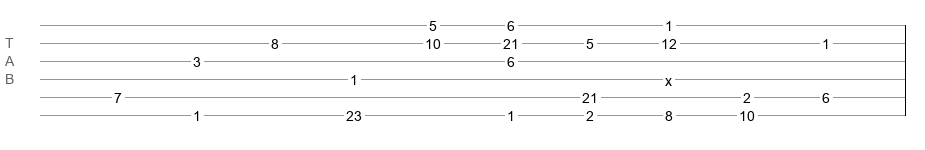1: (193, 108, 201, 118), (350, 72, 358, 82), (507, 108, 515, 118), (665, 18, 673, 28), (822, 36, 830, 46)
10: (425, 36, 441, 46), (739, 108, 755, 118)
12: (661, 36, 677, 46)
2: (586, 108, 594, 118), (743, 90, 751, 100)
21: (503, 36, 519, 46), (582, 90, 598, 100)
23: (346, 108, 362, 118)
3: (193, 54, 201, 64)
5: (429, 18, 437, 28), (586, 36, 594, 46)
6: (507, 54, 515, 64), (507, 18, 515, 28), (822, 90, 830, 100)
7: (114, 90, 122, 100)
8: (271, 36, 279, 46), (665, 108, 673, 118)
x: (665, 73, 672, 81)
